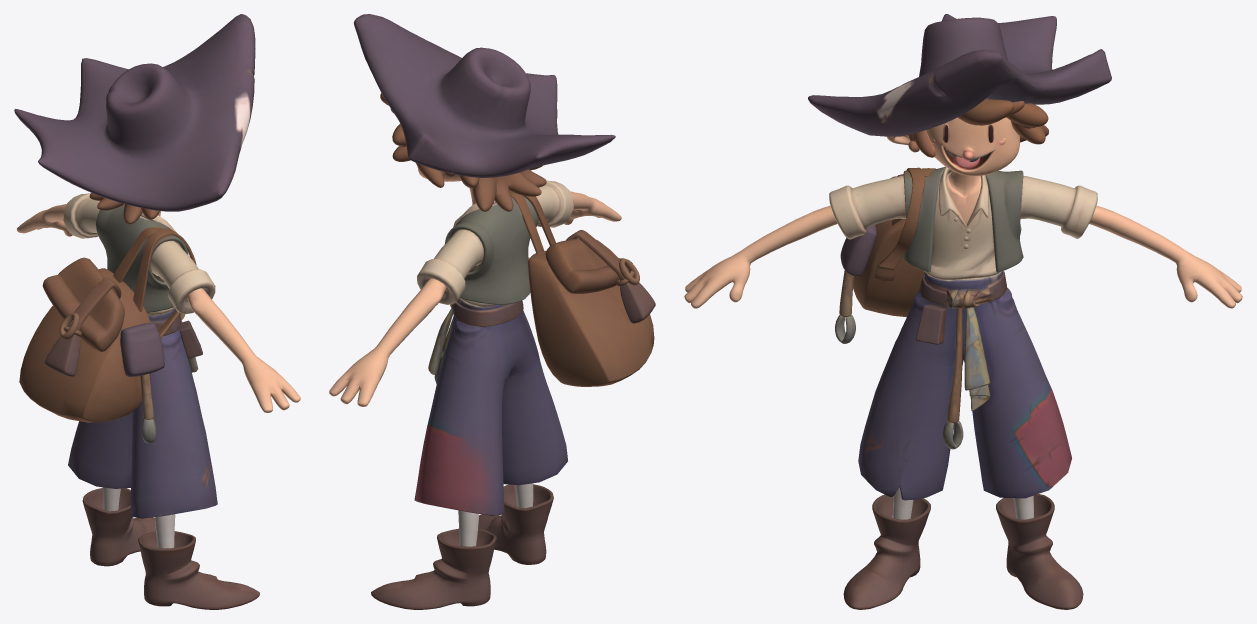
Rendered from pirate.fbx.
3 views of the same model, side by side, from view 1: azimuth 30°, elevation 25°; view 2: azimuth 150°, elevation 25°; view 3: azimuth 270°, elevation 25° (orthographic). The views are drawn at different scales.
Visible parts, largest first — view 1: tripo_7867053e_7b86_40cb_80ef_769a802c3582; view 2: tripo_7867053e_7b86_40cb_80ef_769a802c3582; view 3: tripo_7867053e_7b86_40cb_80ef_769a802c3582.
Part boxes in pixels (x1,y1,x2,y2): tripo_7867053e_7b86_40cb_80ef_769a802c3582: (14,14,300,609); tripo_7867053e_7b86_40cb_80ef_769a802c3582: (329,14,655,609); tripo_7867053e_7b86_40cb_80ef_769a802c3582: (684,14,1242,609).
Bounding box in the file's own units: 0.4829 × 0.9995 × 0.8638.
1 material, 1 textured.
